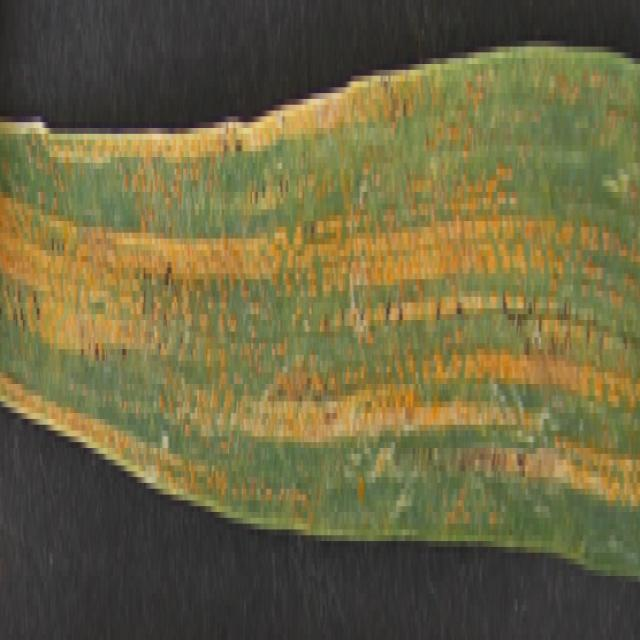leaf rust: (1, 87, 640, 506)
